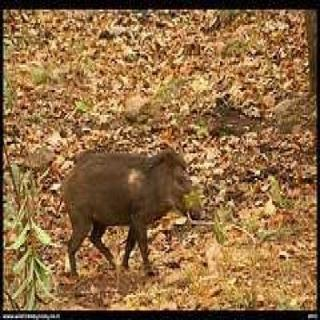Pig: (48, 110, 214, 271)
